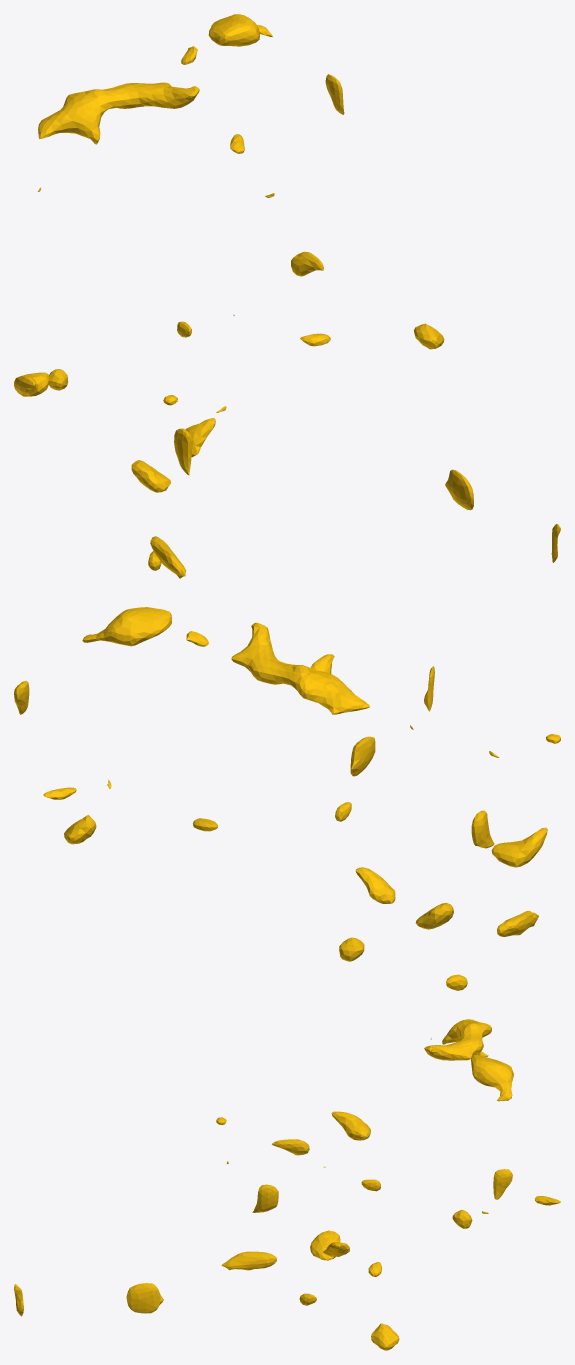
File: case_28_penumbra.gltf
3 renders of one model, top to bottom at view 1: azimuth 30°, elevation 25°; view 2: azimuth 150°, elevation 25°; view 3: azimuth 270°, elevation 25°, orthographic. The views are drawn at different scales.
Parts seen in each view (by area): view 1: penumbra; view 2: penumbra; view 3: penumbra.
Part boxes in pixels (box(x1,y1,x2,y2)): penumbra: box(14, 14, 560, 578); penumbra: box(14, 607, 560, 990); penumbra: box(14, 1019, 560, 1350).
Bounding box in the file's own units: 1.13 × 0.9808 × 1.52.
